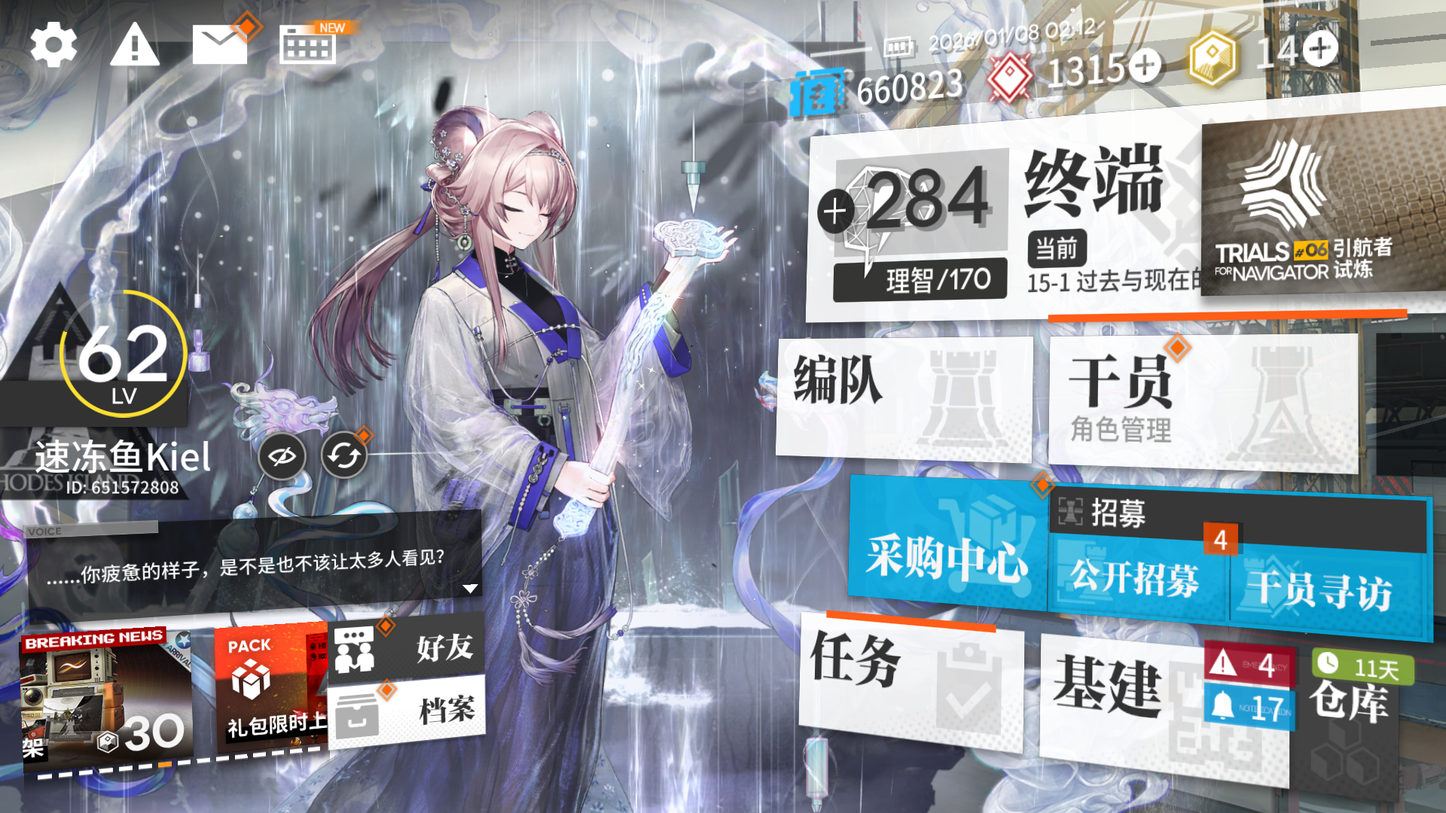home_button: (1014, 134, 1151, 233)
infrastructure_button: (1044, 645, 1250, 755)
